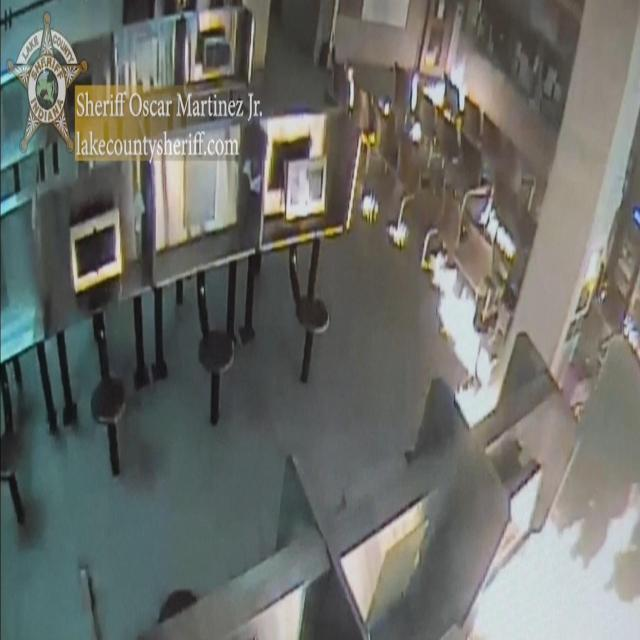fire: (470, 486, 640, 640), (430, 253, 498, 428), (422, 57, 468, 113)
